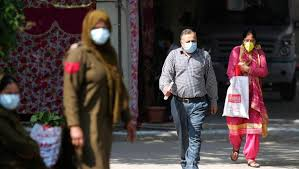mask: (1, 79, 19, 110), (91, 17, 111, 44), (181, 32, 196, 52), (242, 32, 255, 51)
